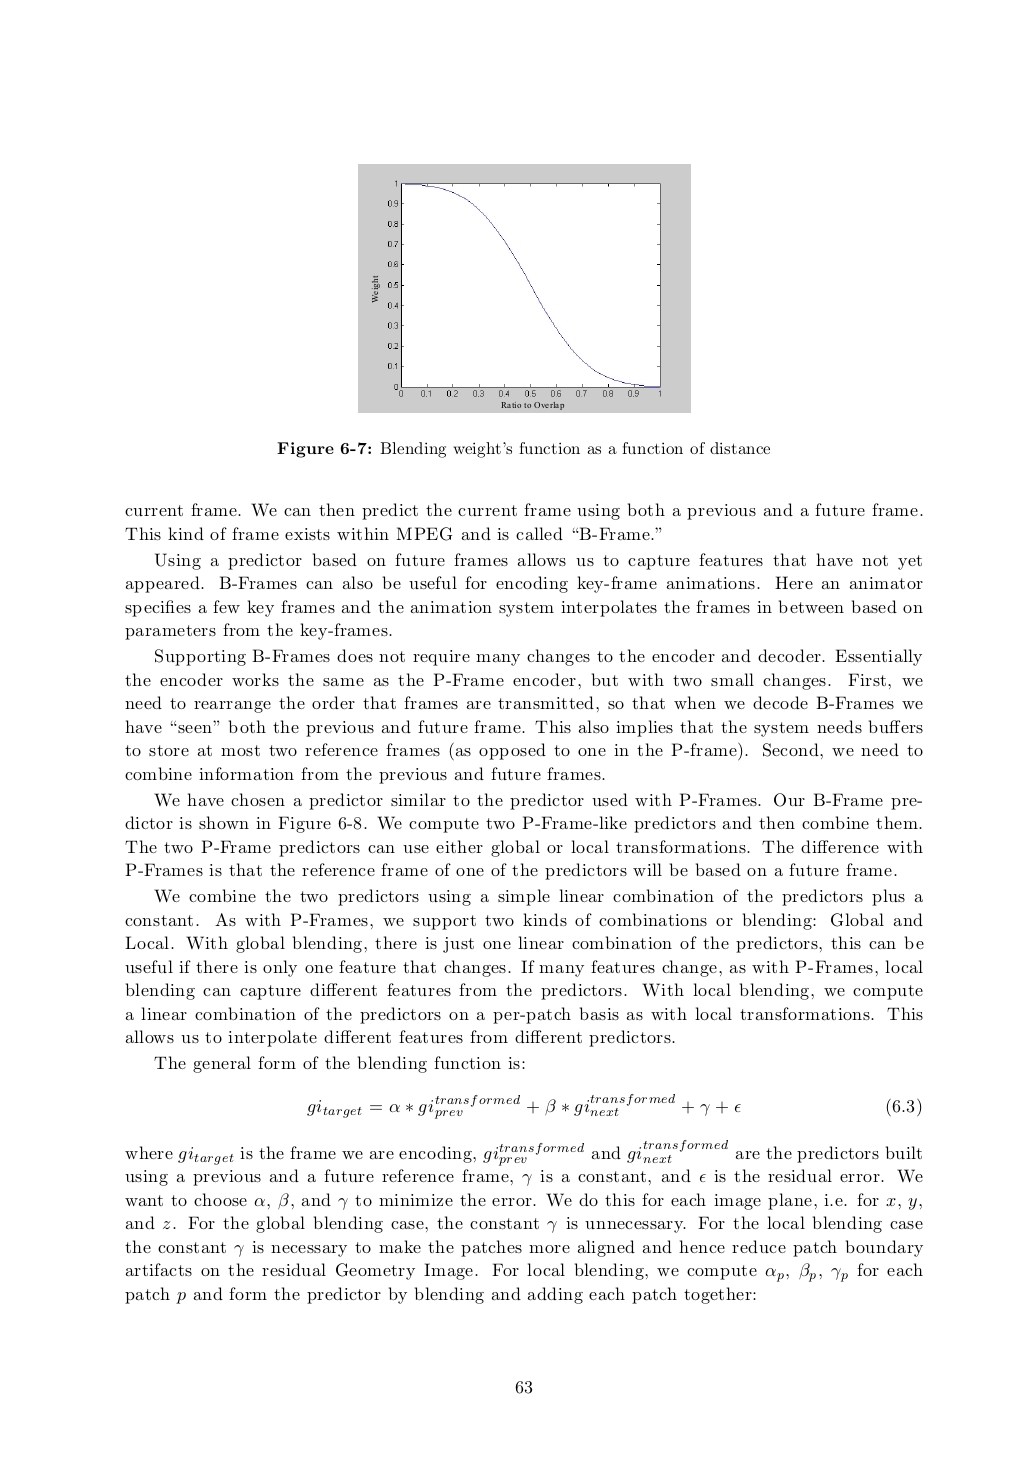figure: (358, 163, 690, 413)
formula: (307, 1092, 921, 1119)
